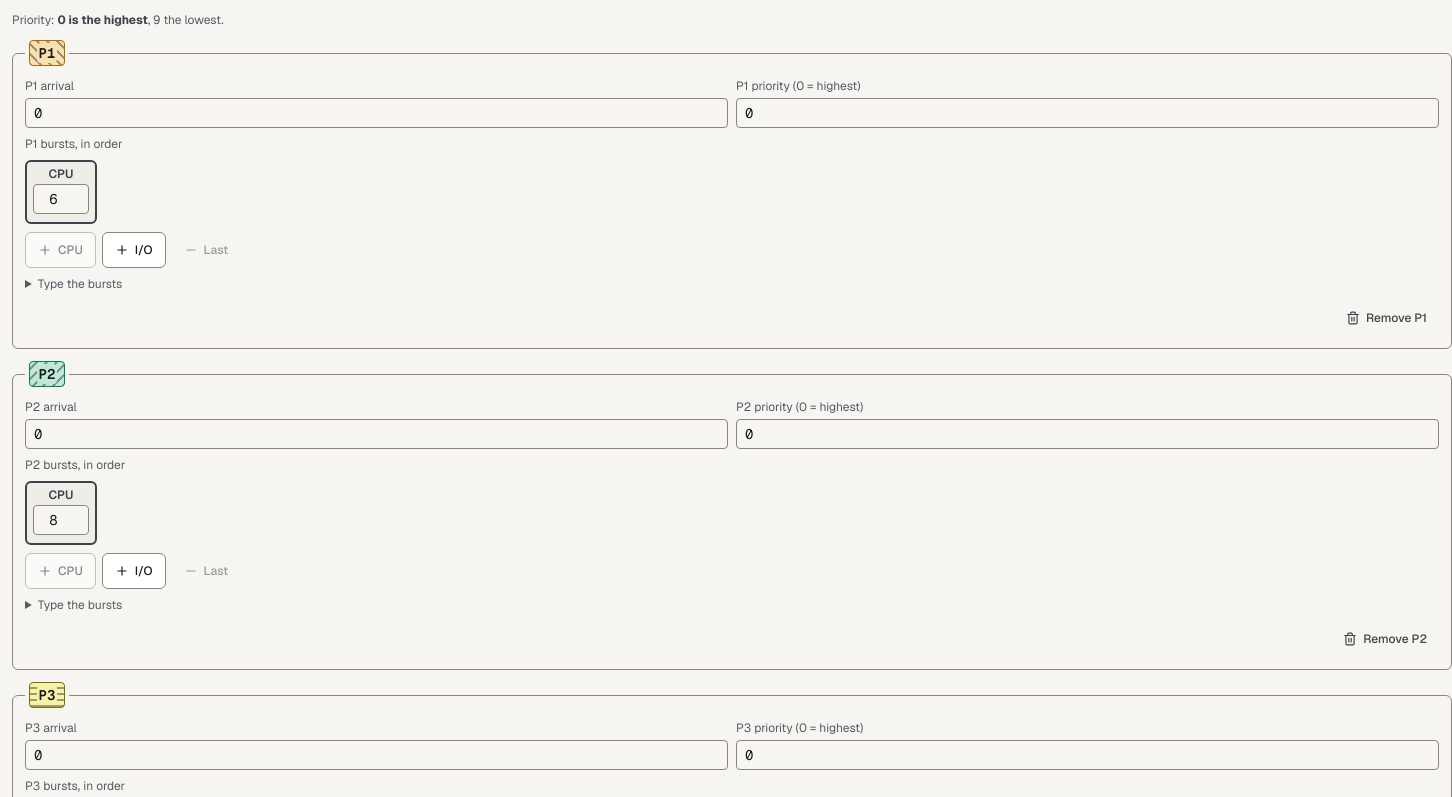
burst builder (S1) › adds an I/O and a CPU burst with buttons, and edits a block
The image size is (1452, 797).
Expected: the button with aria-label "Add a CPU burst to P1" is disabled, [25,232,96,268]
Click the button named "Add an I/O burst to P1" at [134, 250], box [102,232,166,268]
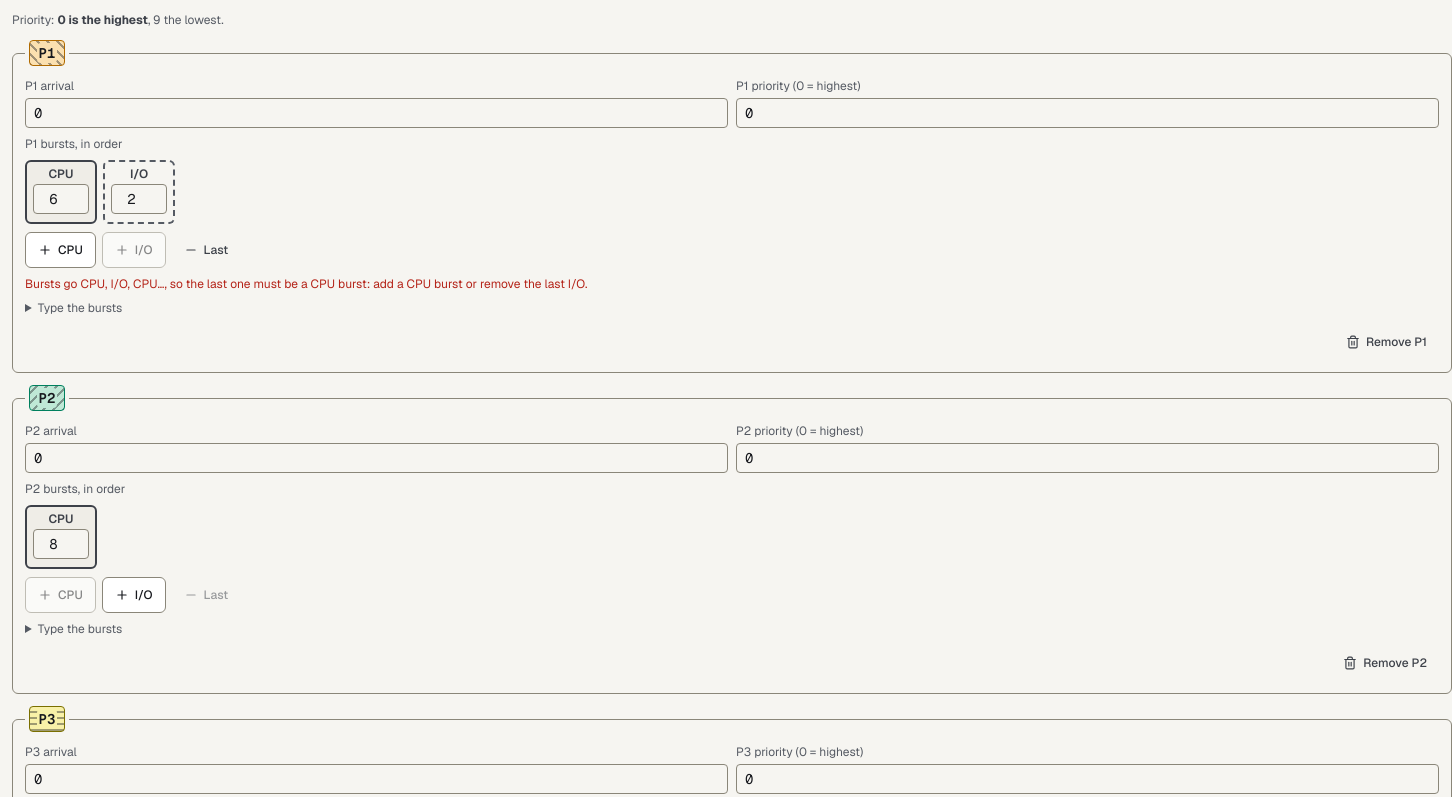
Expected: the list item "Bursts go CPU, I/O, CPU…, so the last one must be a CPU burst: add a CPU burst or remove the last I/O." is shown, [25,276,587,292]
Click the button with aria-label "Add a CPU burst to P1" at [60, 250], box [25,232,96,268]
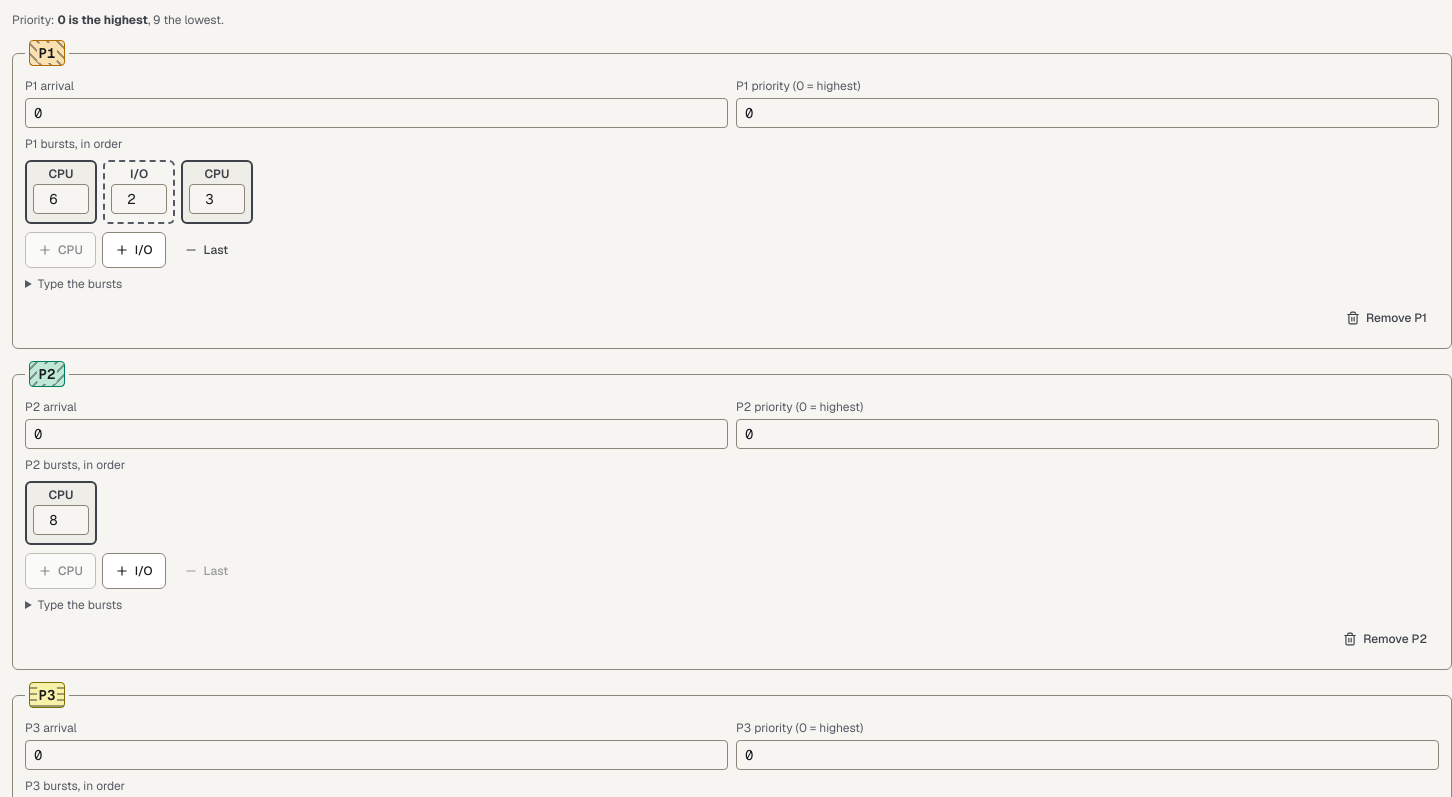
Clear the 2nd number field named "P1 I/O burst 1 (ticks)" at [139, 199], box [111,184,167,214]
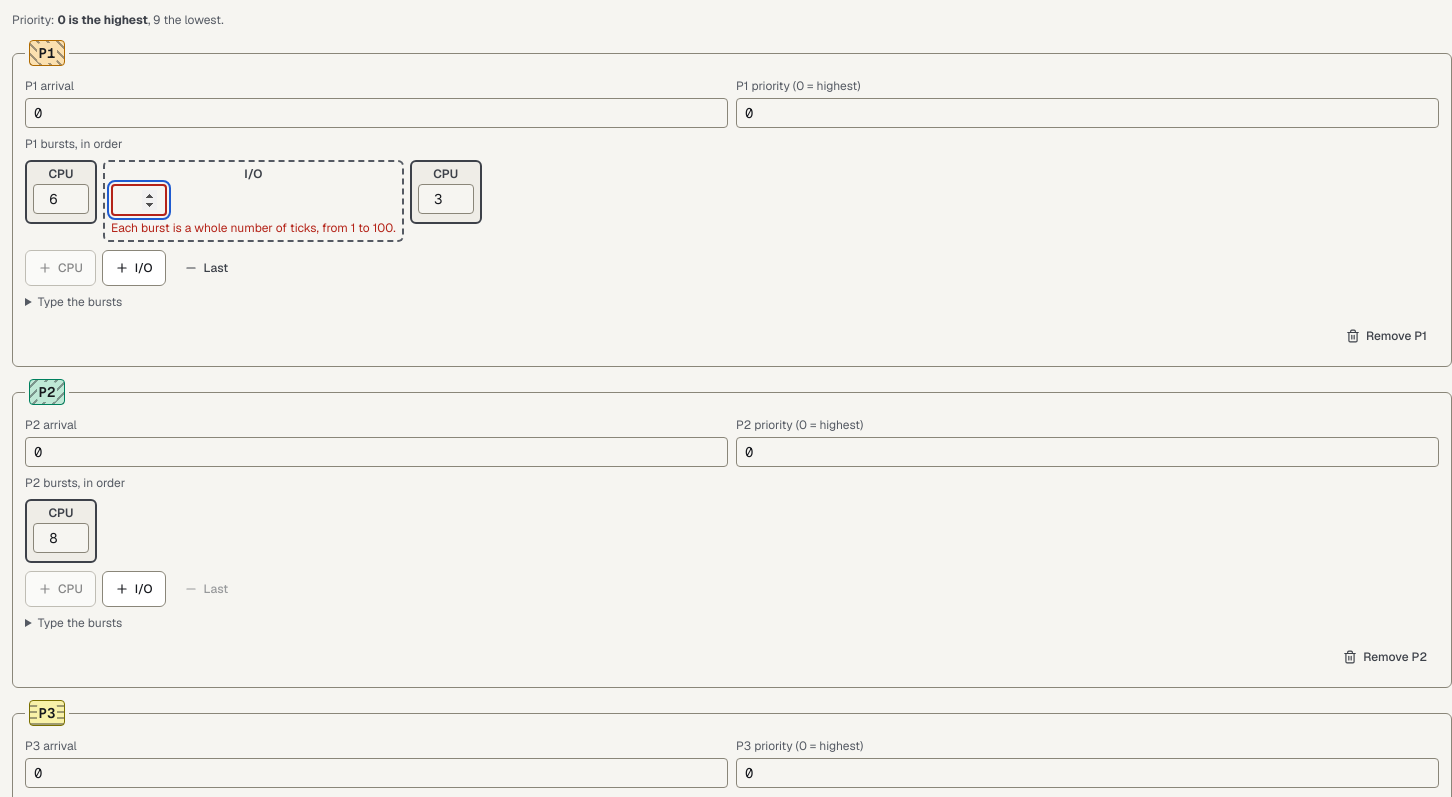
Type "5" into the 2nd number field named "P1 I/O burst 1 (ticks)" at [139, 200], box [111,184,167,216]
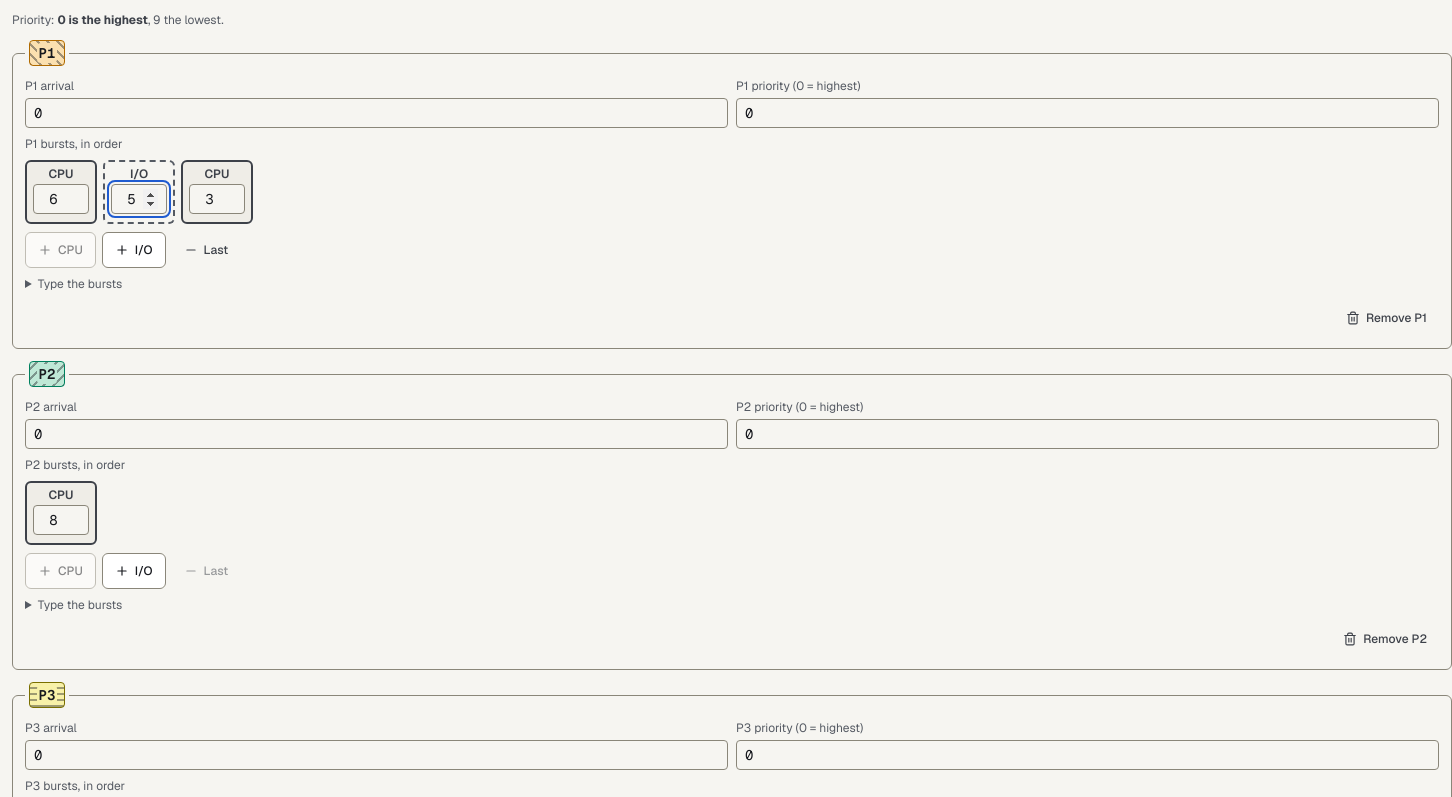
Click the button with aria-label "Remove P1’s last burst" at [206, 250], box [172,232,240,268]
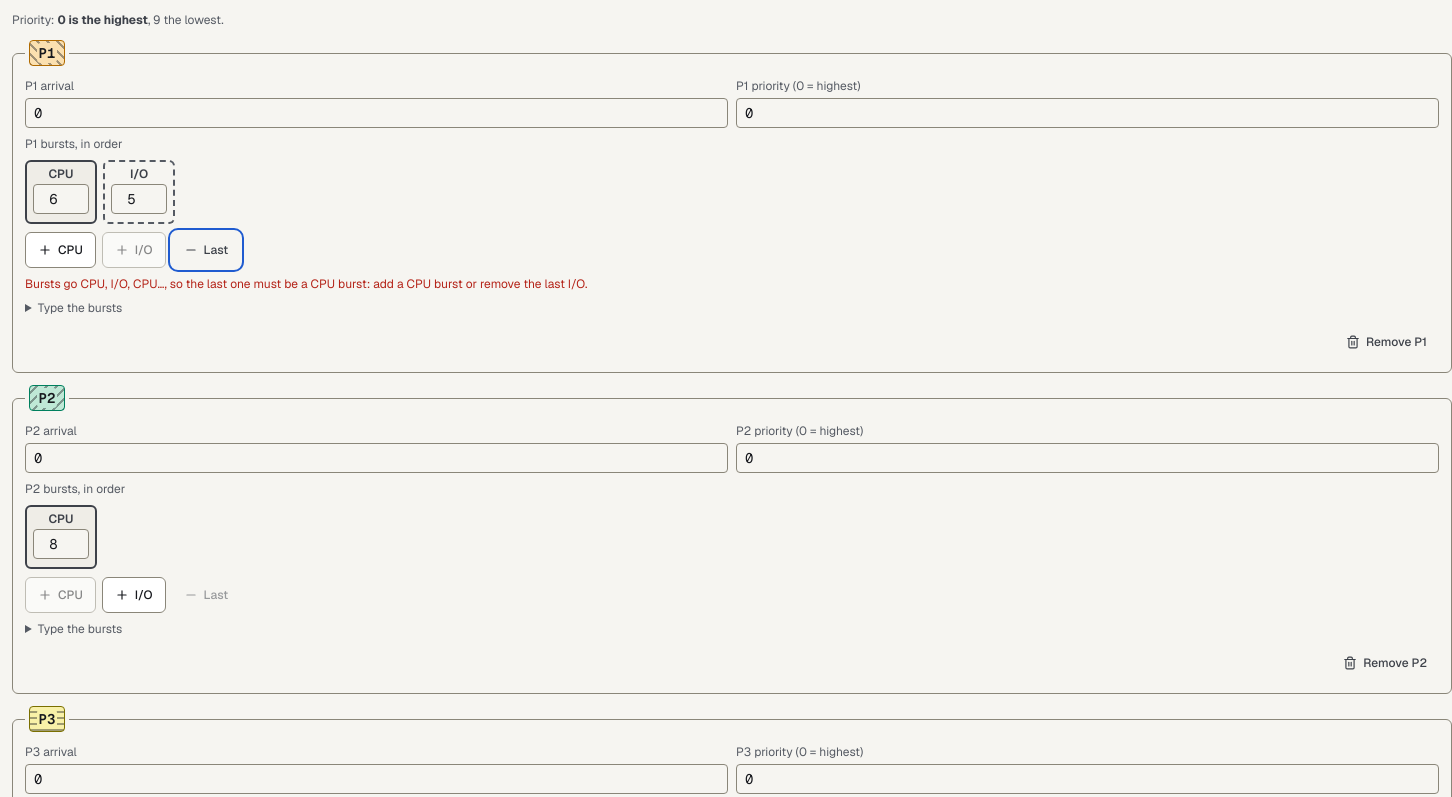
Expected: the list item "Bursts go CPU, I/O, CPU…, so the last one must be a CPU burst: add a CPU burst or remove the last I/O." is shown, [25,276,587,292]
